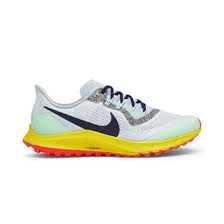nike: (37, 100, 124, 144)
